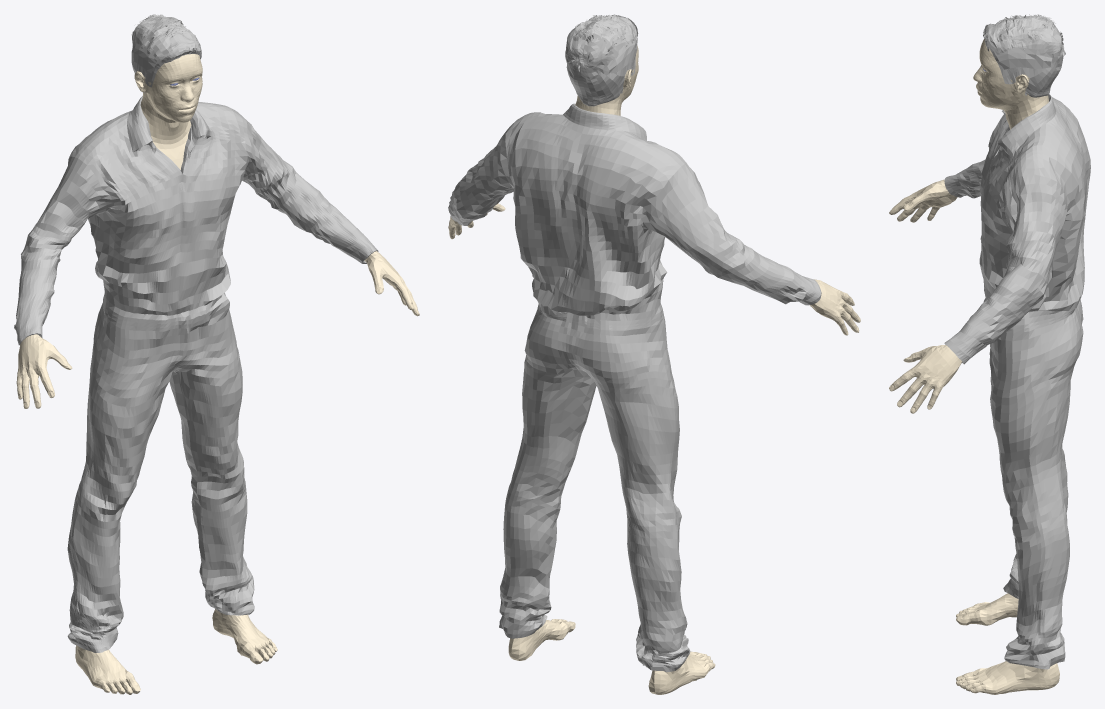
File: avatar.obj
The picture shows the model from 3 angles, left to right: view 1: azimuth 30°, elevation 25°; view 2: azimuth 150°, elevation 25°; view 3: azimuth 270°, elevation 25°; orthographic projection. The views are drawn at different scales.
Visible parts, largest first — view 1: male_casualsuit01.obj, base.obj, short01.obj; view 2: male_casualsuit01.obj, base.obj, short01.obj; view 3: male_casualsuit01.obj, base.obj, short01.obj.
Part boxes in pixels (x1,y1,x2,y2): male_casualsuit01.obj: (14,96,378,652); base.obj: (16,54,419,694); short01.obj: (131,14,201,93); male_casualsuit01.obj: (448,103,821,672); base.obj: (448,46,860,694); short01.obj: (565,14,638,106); male_casualsuit01.obj: (944,94,1090,669); base.obj: (889,39,1059,694); short01.obj: (983,14,1065,97).
Bounding box in the file's own units: 11.33 × 17.47 × 5.02.
